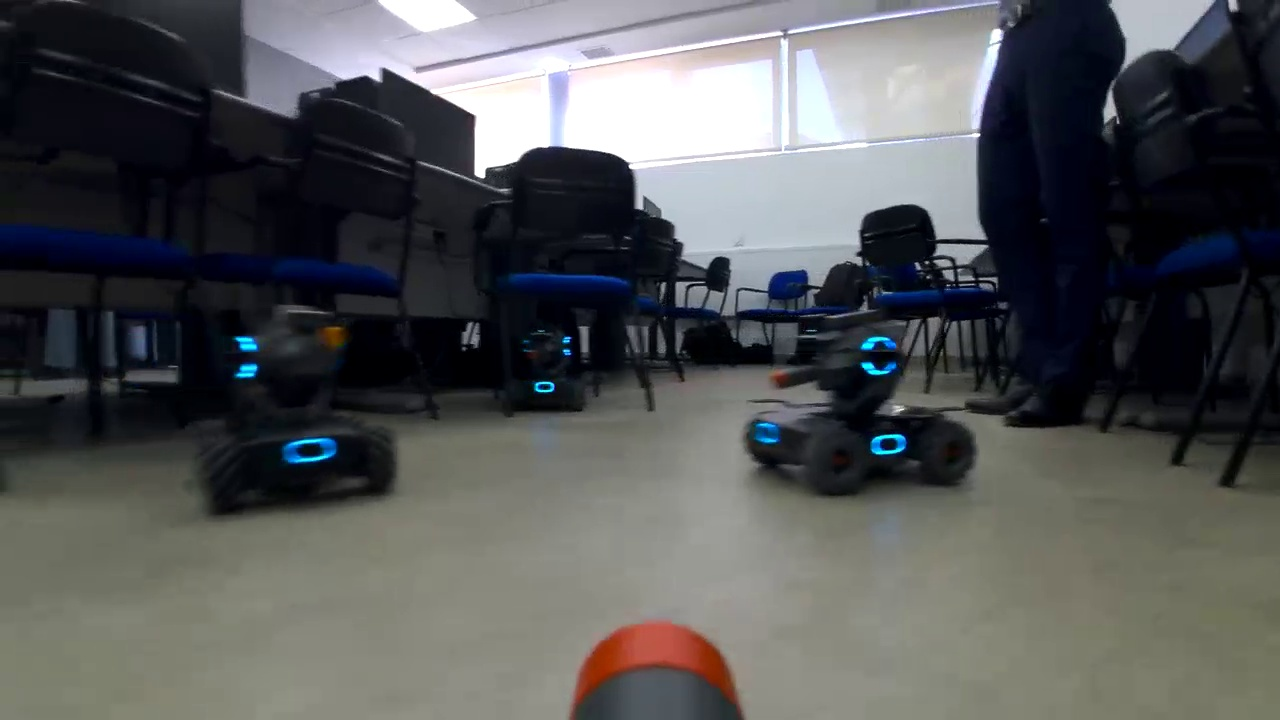robot: (189, 294, 401, 517), (741, 321, 983, 503), (495, 322, 595, 416)
